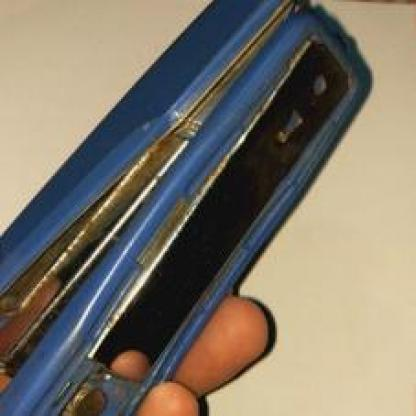stapler: (6, 0, 372, 414)
